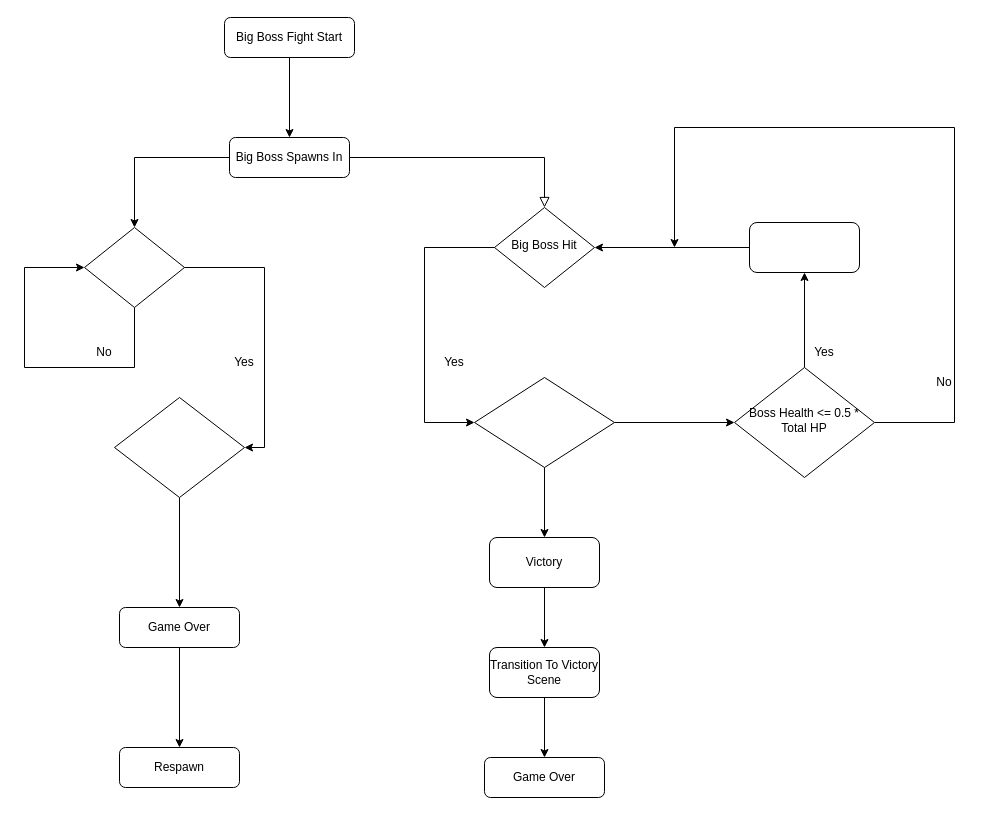
Some shapes in this 992 by 815 pixel diagram are drawn without their labels. Each missing label, with the box of its shape:
Big Boss Health = 0 ?: (474, 376, 614, 468)
Summon monsters: (748, 222, 860, 272)
Zephyr Health = 0?: (114, 396, 244, 498)
Zephyr Hit: (84, 226, 184, 308)
